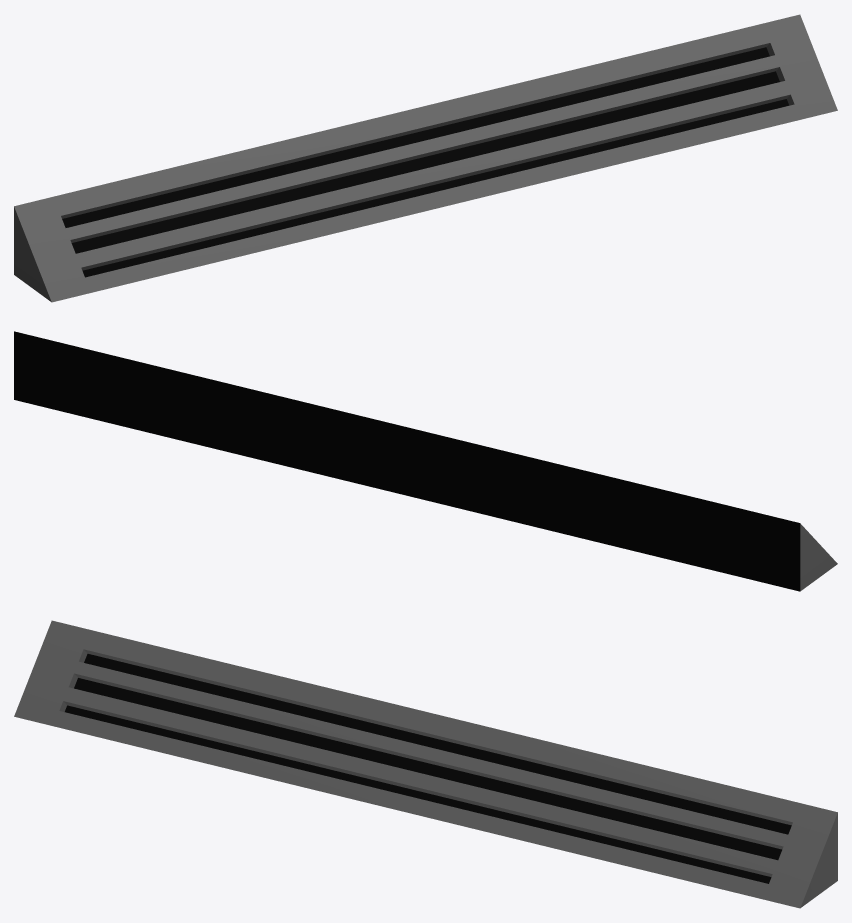
File: StationWallMoulding.fbx
The picture shows the model from 3 angles, top to bottom: view 1: azimuth 30°, elevation 25°; view 2: azimuth 150°, elevation 25°; view 3: azimuth 330°, elevation 25°; orthographic projection.
Visible parts, largest first — view 1: MouldingFloor; view 2: MouldingFloor; view 3: MouldingFloor.
Boxes of the visible parts, left/top/right/bottom form: MouldingFloor: left=14, top=14, right=837, bottom=302; MouldingFloor: left=14, top=331, right=837, bottom=591; MouldingFloor: left=14, top=620, right=837, bottom=908.
Size of the model in its own units: 240 by 20 by 20.
